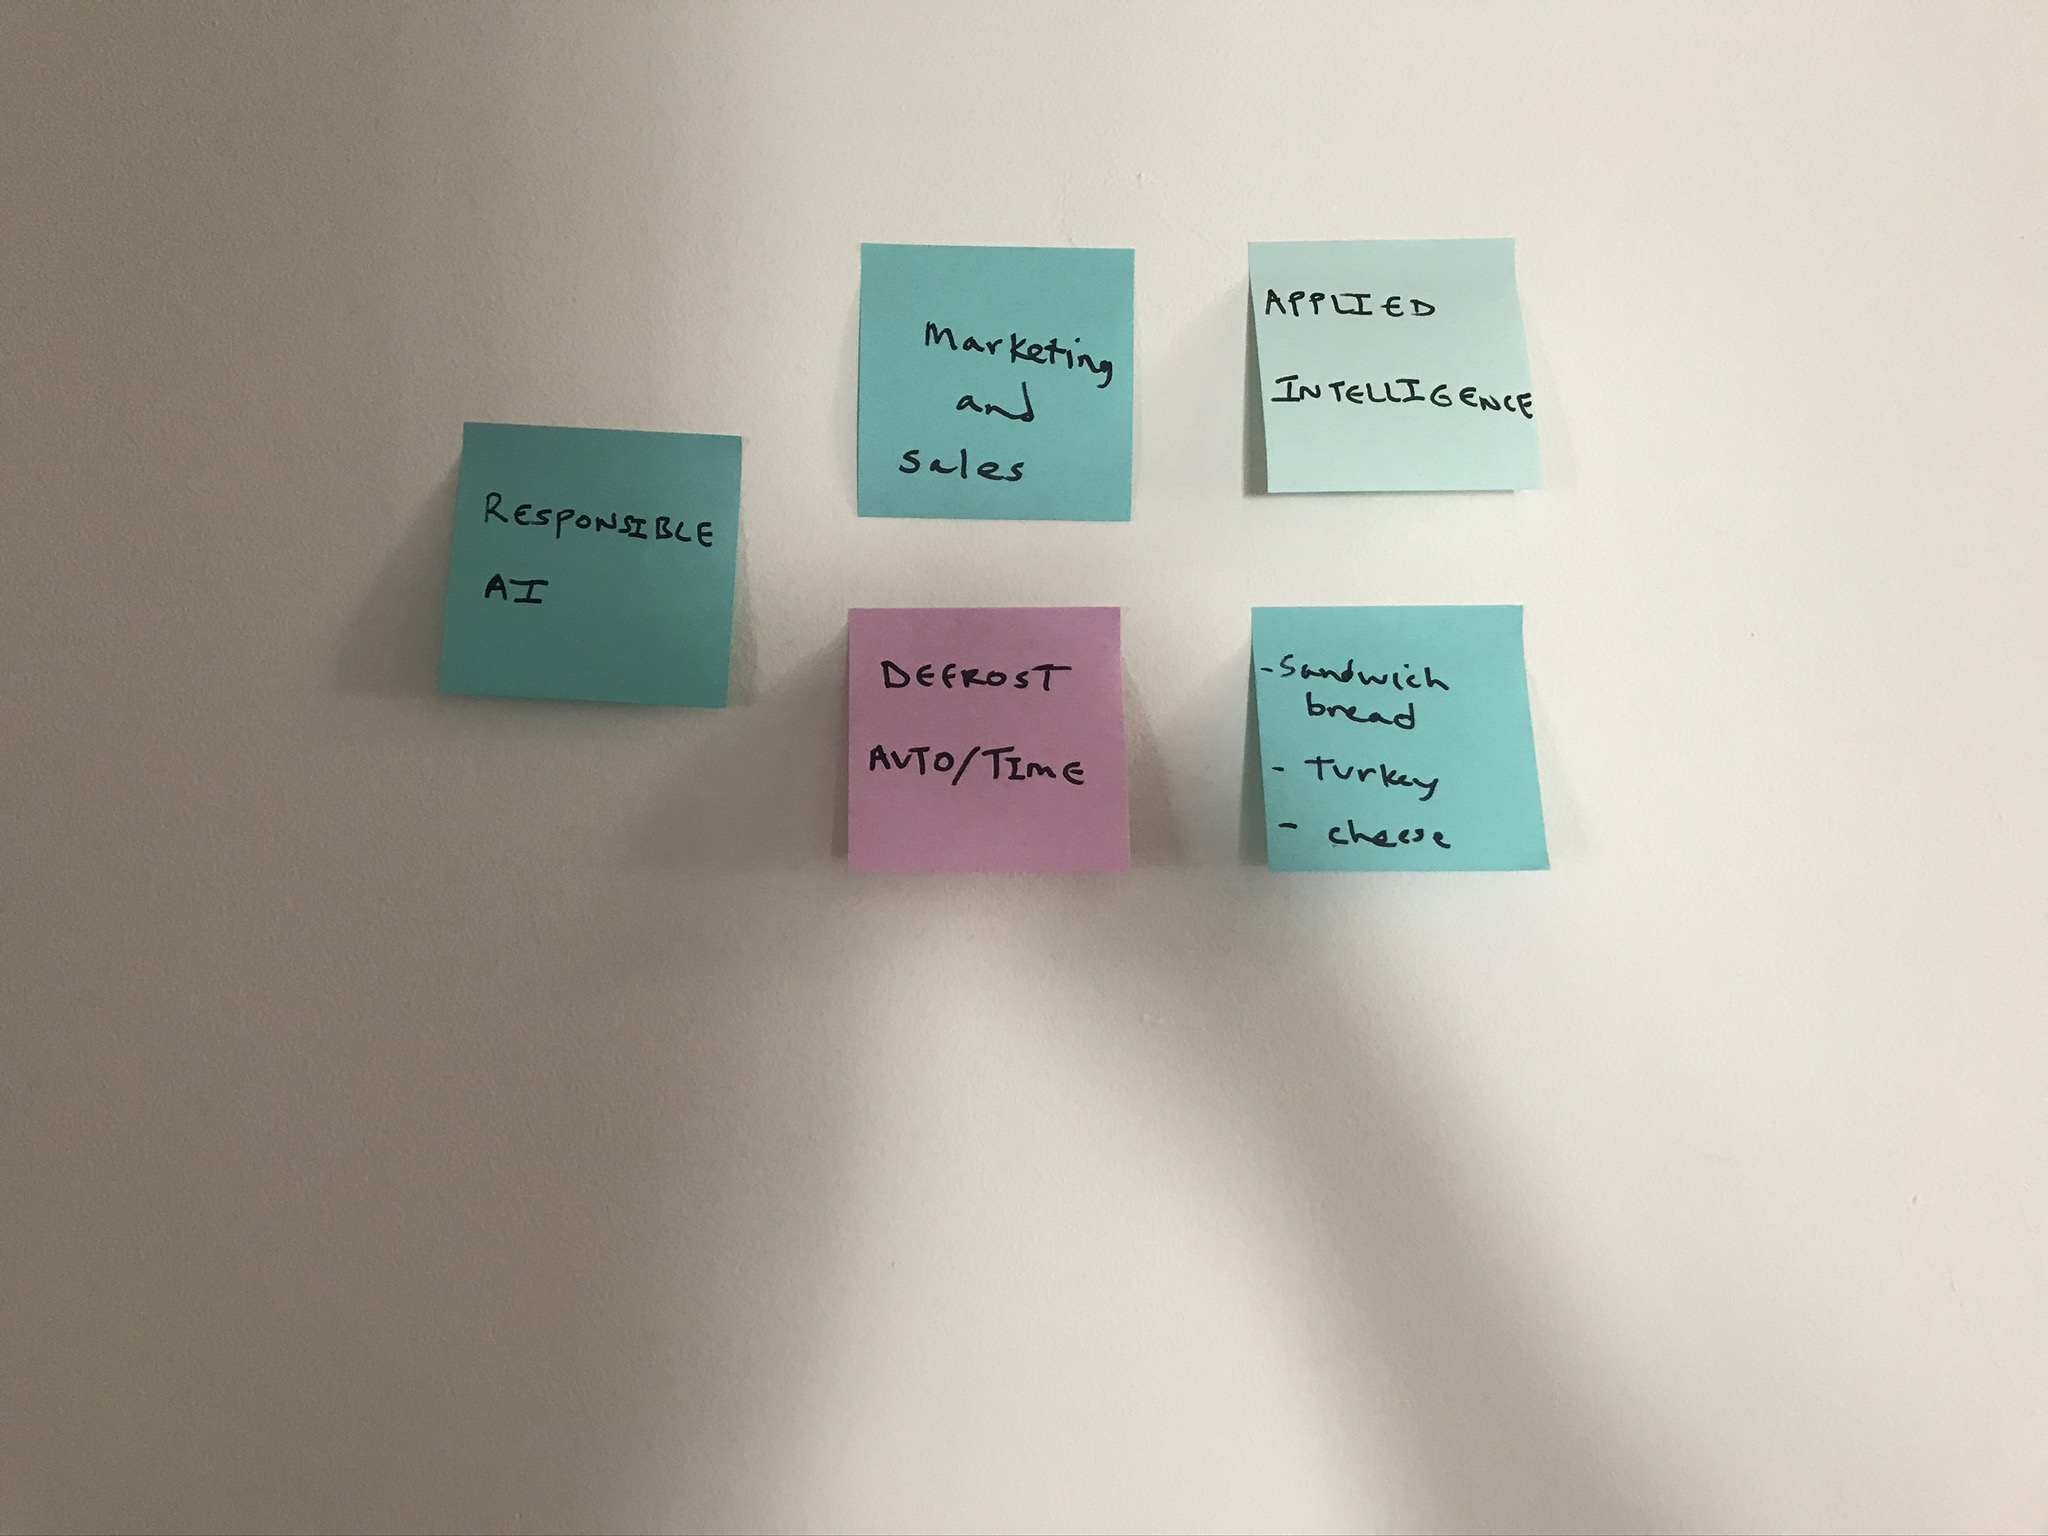sticky: (435, 421, 745, 707), (1250, 603, 1553, 870), (855, 244, 1135, 526), (1248, 240, 1543, 494), (845, 607, 1129, 870)
